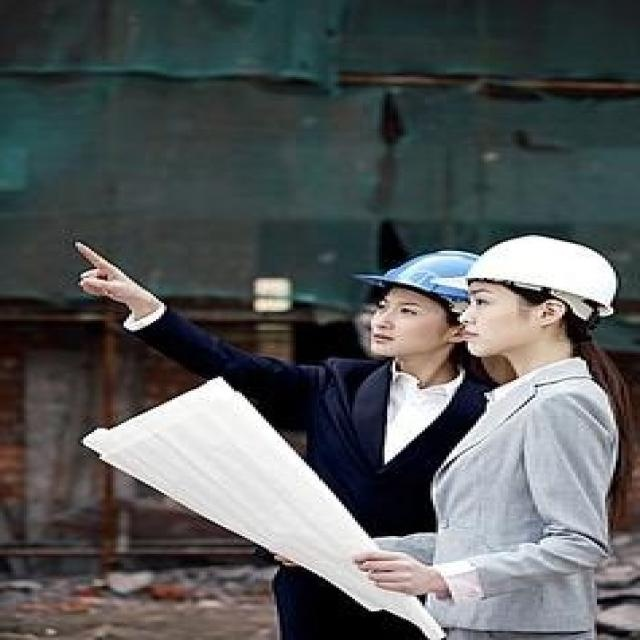Con_Casco: (462, 233, 617, 356)
